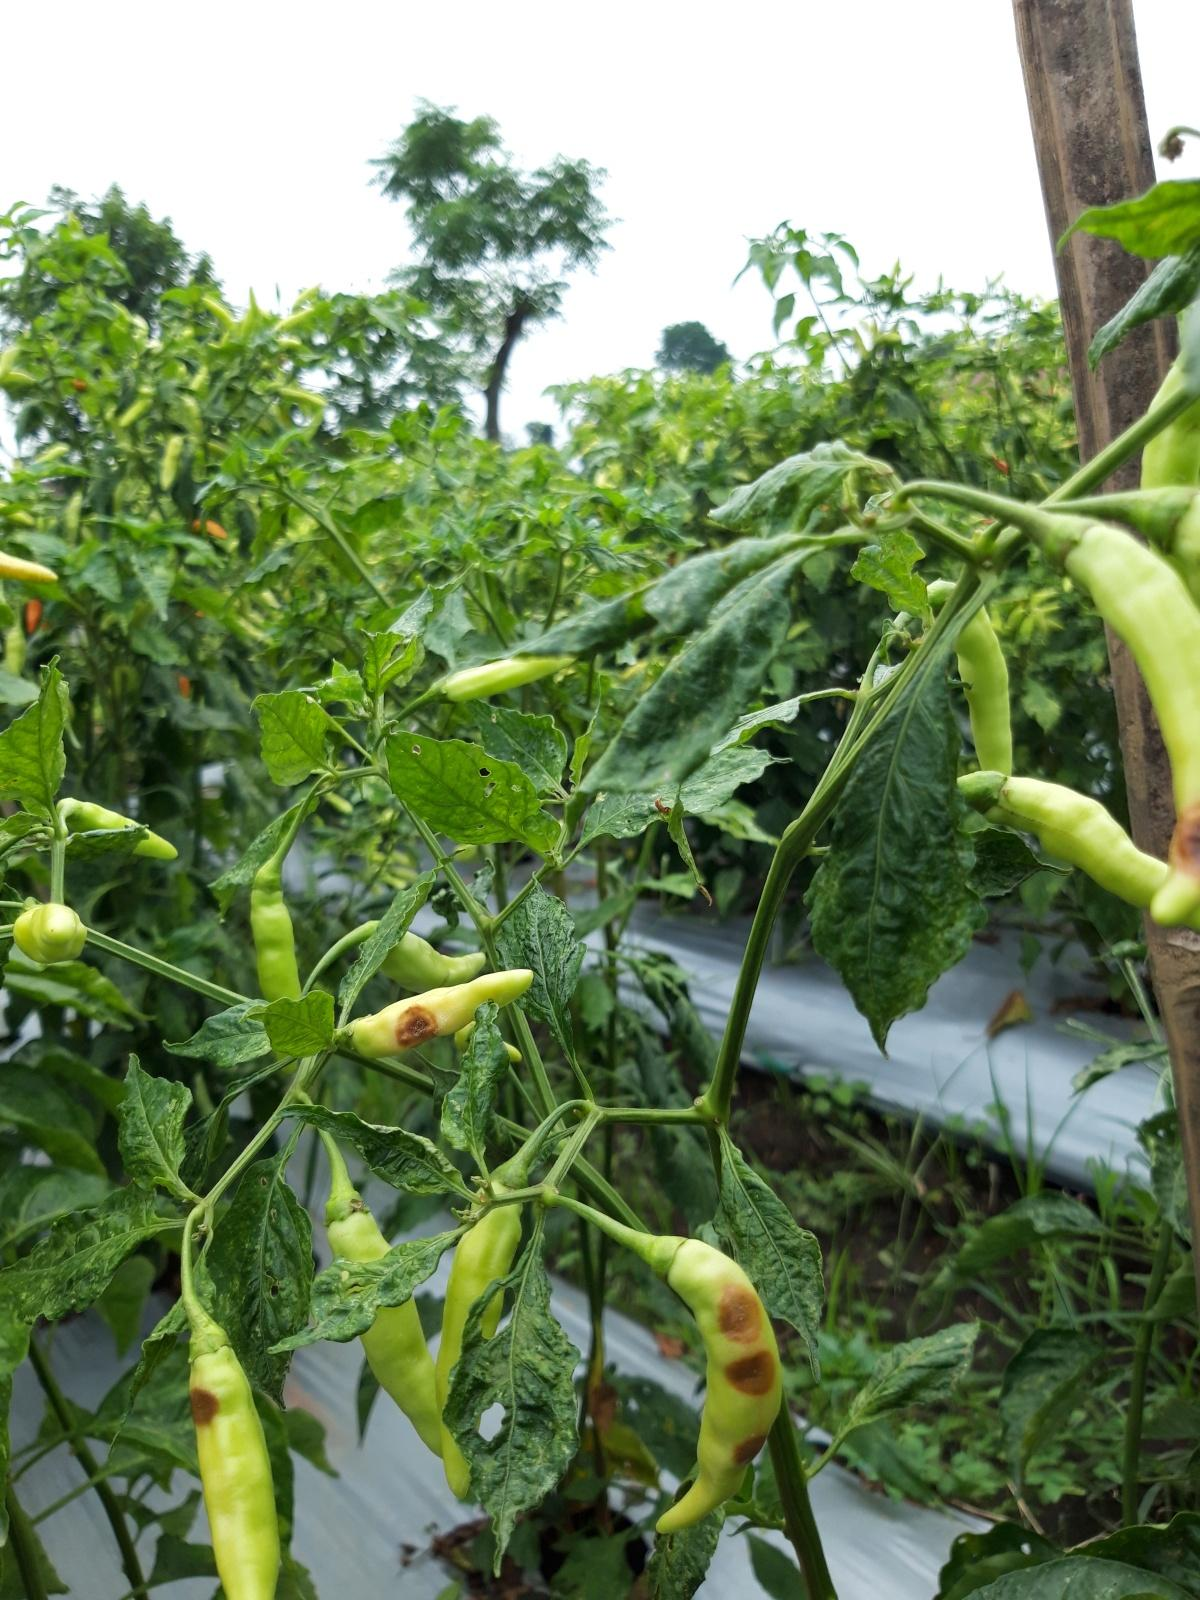cabai_normal: (955, 771, 1200, 930), (435, 1160, 529, 1500), (325, 1191, 441, 1456), (930, 580, 1013, 779), (55, 797, 180, 864), (434, 653, 576, 703), (250, 871, 304, 1002), (13, 903, 88, 964)
lalat_buah: (1044, 515, 1200, 925), (650, 1235, 782, 1533), (188, 1327, 280, 1600), (342, 968, 534, 1060)
